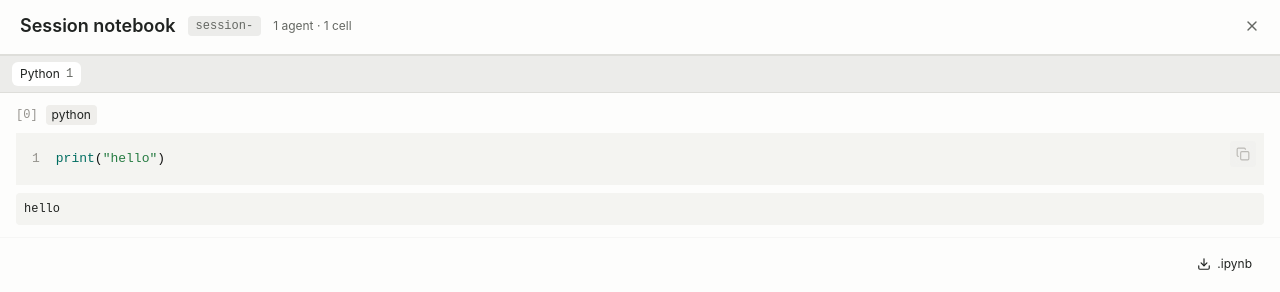
Test case: SessionNotebookContent export › surfaces export failures and re-enables the button
Step 1. Click the button with aria-label "Download python as .ipynb" → click(1225, 264), box x1=1189 y1=252 x2=1260 y2=276
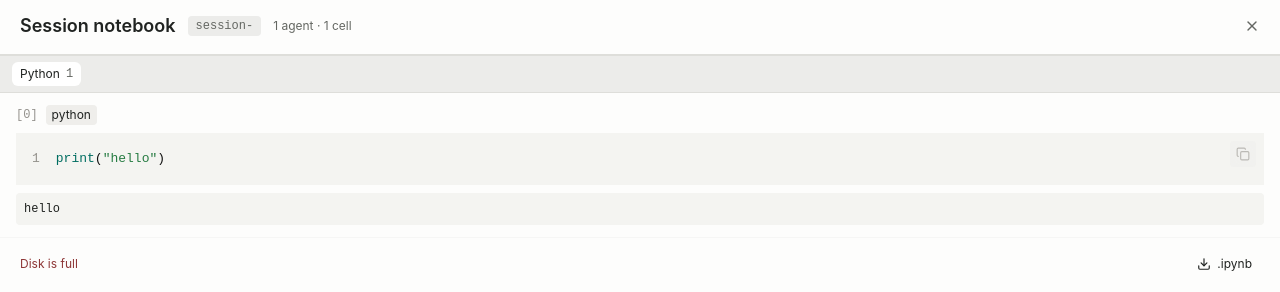
Expected: the message "Disk is full" is shown, x1=20 y1=256 x2=78 y2=272
